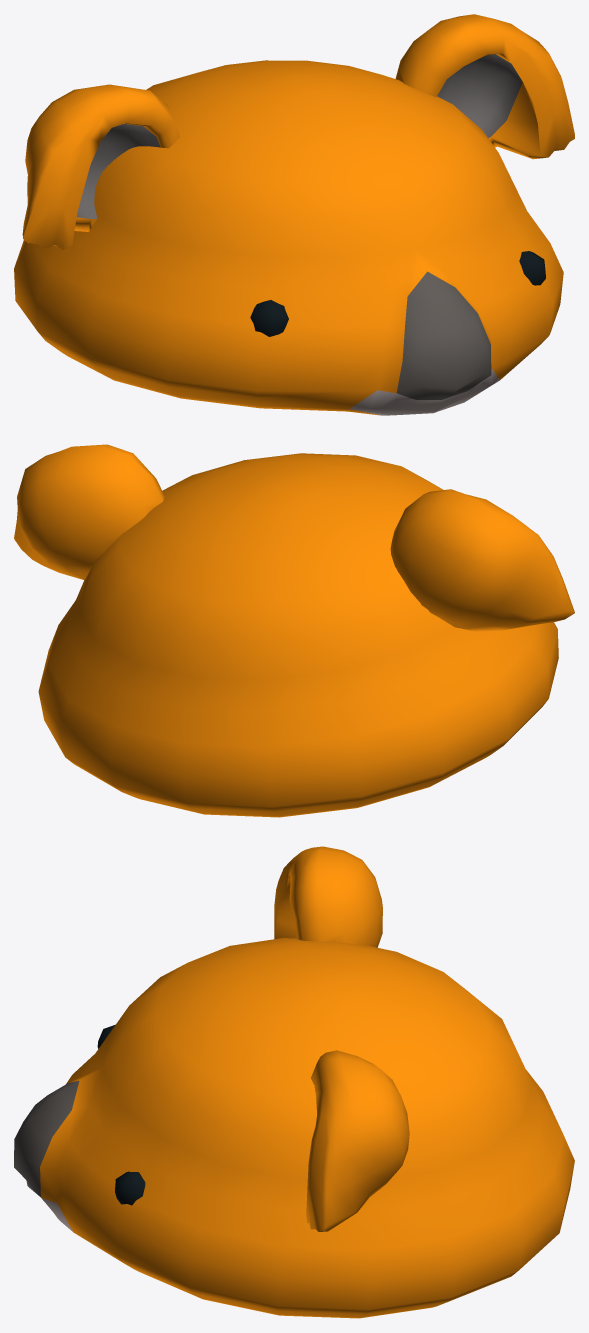
File: Hat_49_03.fbx
3 views of the same model, one above another, from view 1: azimuth 30°, elevation 25°; view 2: azimuth 150°, elevation 25°; view 3: azimuth 270°, elevation 25° (orthographic). The views are drawn at different scales.
Parts seen in each view (by area): view 1: Hat_49_03; view 2: Hat_49_03; view 3: Hat_49_03.
Part boxes in pixels (left/top/right/bottom): Hat_49_03: left=14, top=14, right=574, bottom=415; Hat_49_03: left=14, top=444, right=574, bottom=817; Hat_49_03: left=14, top=846, right=574, bottom=1318.
Bounding box in the file's own units: 50.92 × 25.61 × 44.96.
